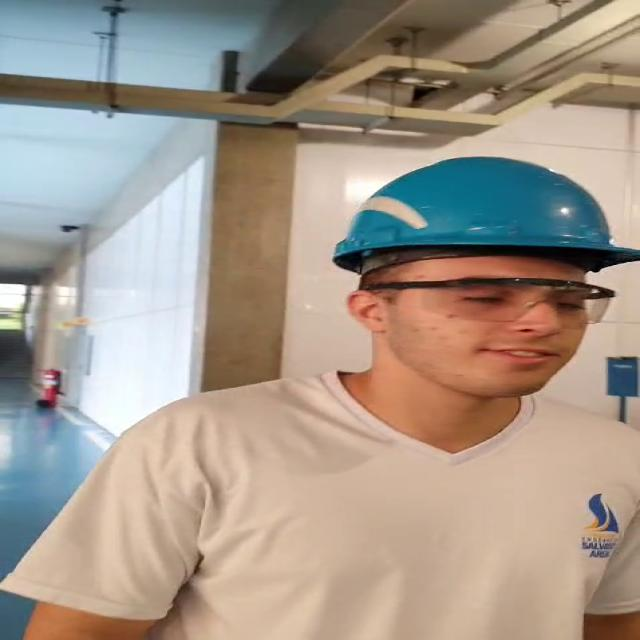oculos-epi: (380, 278, 613, 325)
